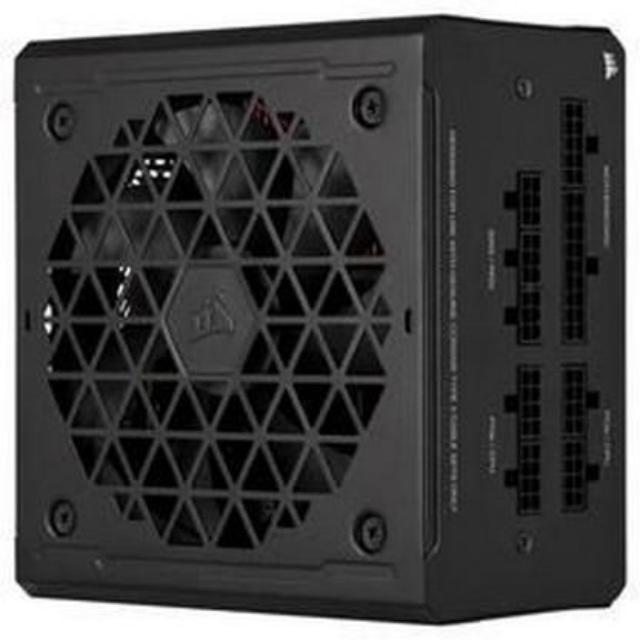PSU: (0, 15, 629, 623)
